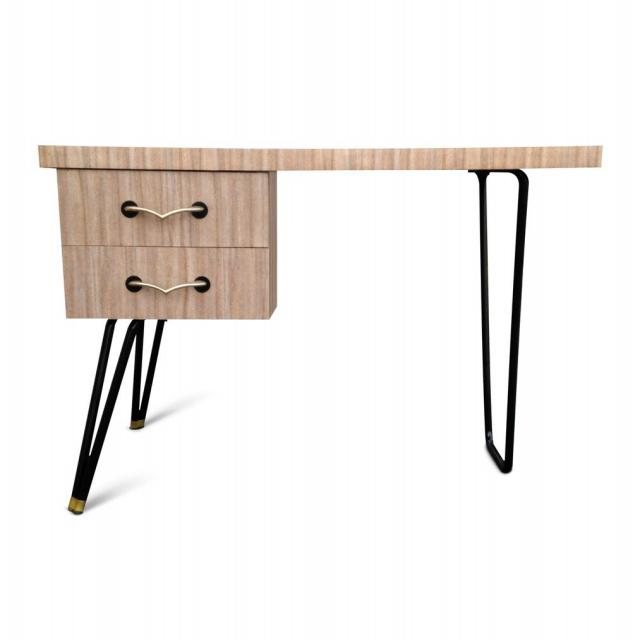Table: (26, 135, 547, 509)
